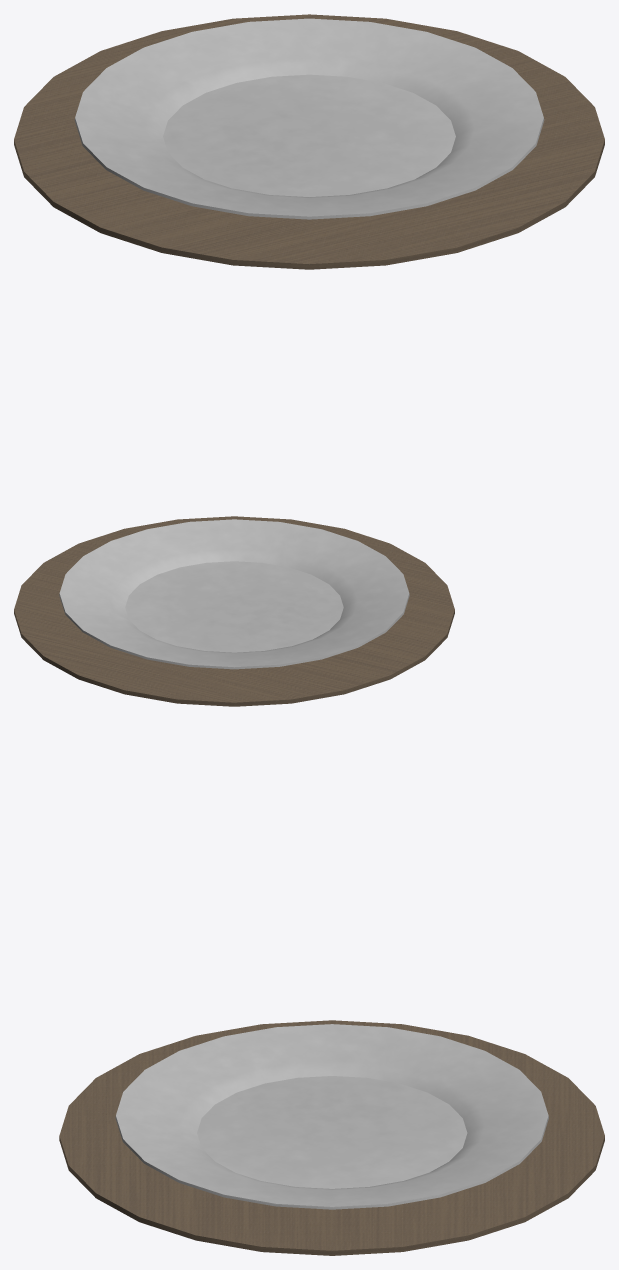
The model's file is Tableware.fbx.
The picture shows the model from 3 angles, top to bottom: view 1: azimuth 30°, elevation 25°; view 2: azimuth 150°, elevation 25°; view 3: azimuth 270°, elevation 25°; orthographic projection. The views are drawn at different scales.
Visible parts, largest first — view 1: Plate, Matte; view 2: Plate, Matte; view 3: Plate, Matte.
Part boxes in pixels (x1,y1,x2,y2): Plate: [74, 18, 544, 219]; Matte: [14, 14, 604, 269]; Plate: [59, 519, 409, 669]; Matte: [14, 516, 454, 706]; Plate: [115, 1024, 548, 1209]; Matte: [59, 1020, 604, 1255].
Bounding box in the file's own units: 0.57 × 0.24 × 0.52.
1 material, 1 textured.
